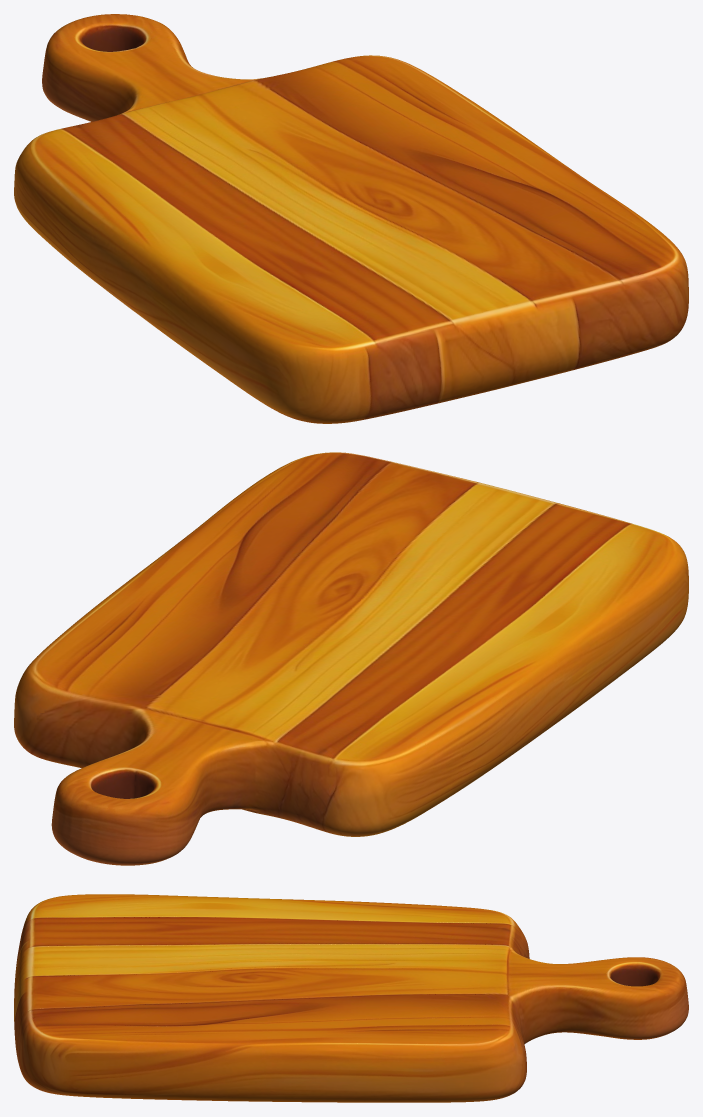
The model's file is tripo_convert_7e96a6a1-145d-4314-8a3b-037bab42553c.fbx.
The picture shows the model from 3 angles, top to bottom: view 1: azimuth 30°, elevation 25°; view 2: azimuth 150°, elevation 25°; view 3: azimuth 270°, elevation 25°; orthographic projection. The views are drawn at different scales.
Visible parts, largest first — view 1: tripo_node_7e96a6a1; view 2: tripo_node_7e96a6a1; view 3: tripo_node_7e96a6a1.
Part boxes in pixels (left/top/right/bottom): tripo_node_7e96a6a1: left=14, top=14, right=688, bottom=423; tripo_node_7e96a6a1: left=14, top=452, right=688, bottom=865; tripo_node_7e96a6a1: left=14, top=894, right=688, bottom=1102.
Size of the model in its own units: 0.5605 by 0.1105 by 1.
